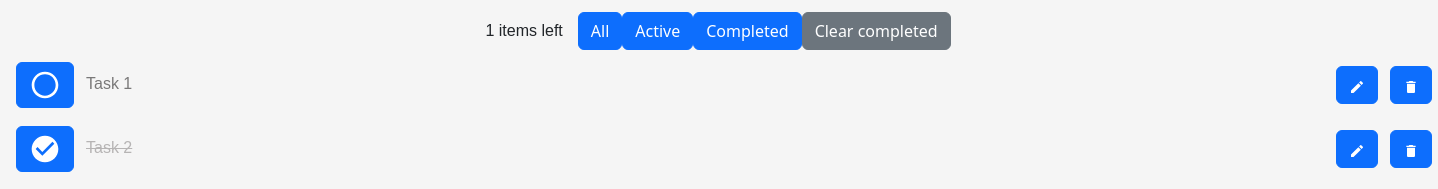
Test: TodoList - Фильтрация задач › отображает только выполненные задачи при нажатии кнопки 'Completed'
This screenshot has width=1438, height=189.
Click the button "Completed": {"x": 747, "y": 31} [693,12,802,50]
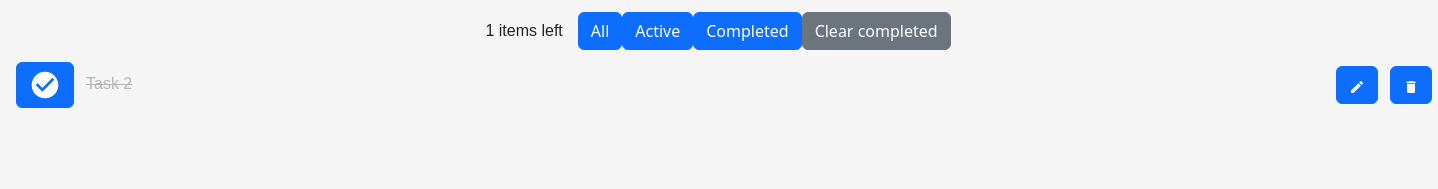
Expected: the text "Task 2" is shown, [86,75,132,92]
Expected: the text "Task 1" is gone
